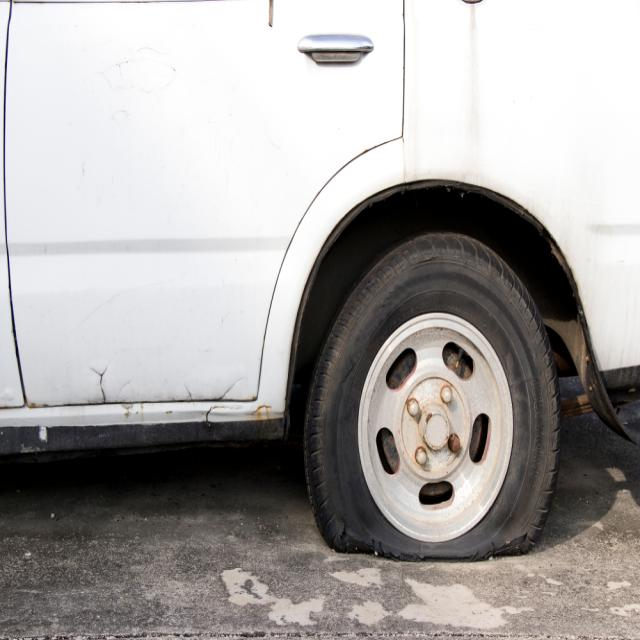tire flat: (305, 231, 559, 564)
